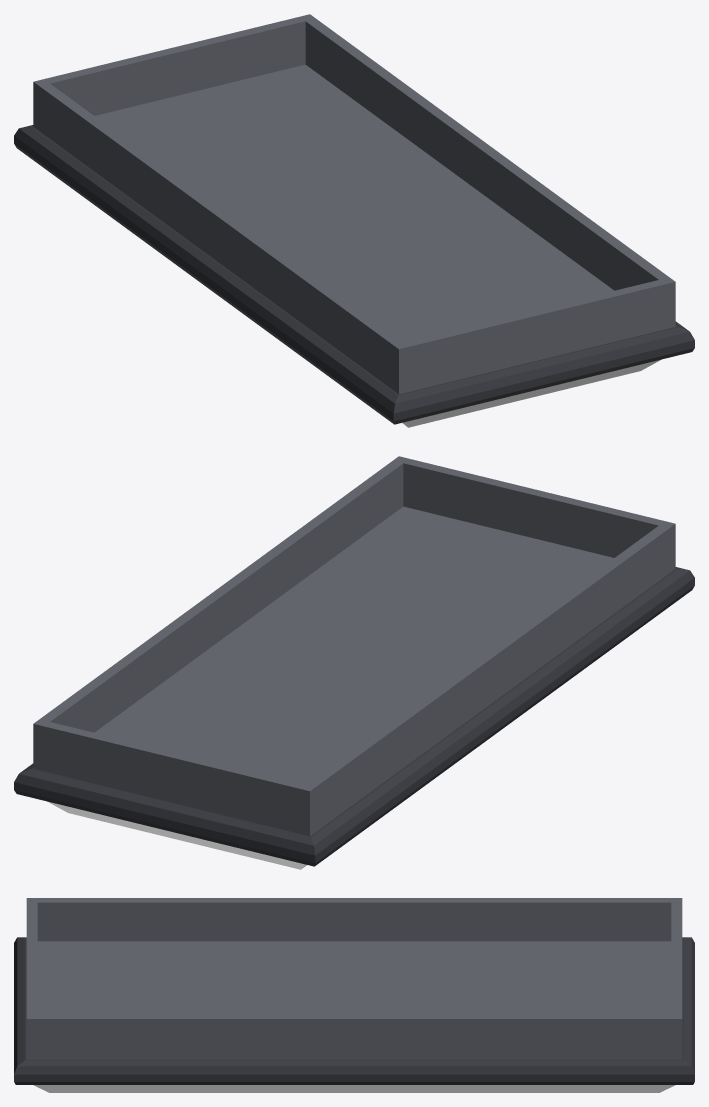
File: rectangle light textured.fbx
3 renders of one model, top to bottom at view 1: azimuth 30°, elevation 25°; view 2: azimuth 150°, elevation 25°; view 3: azimuth 270°, elevation 25°, orthographic. The views are drawn at different scales.
Parts seen in each view (by area): view 1: Light; view 2: Light; view 3: Light.
Part boxes in pixels (x1=…): Light: x1=14, y1=14, x2=694, y2=427; Light: x1=14, y1=456, x2=694, y2=869; Light: x1=14, y1=898, x2=694, y2=1092.
Size of the model in its own units: 359 by 106 by 784.
